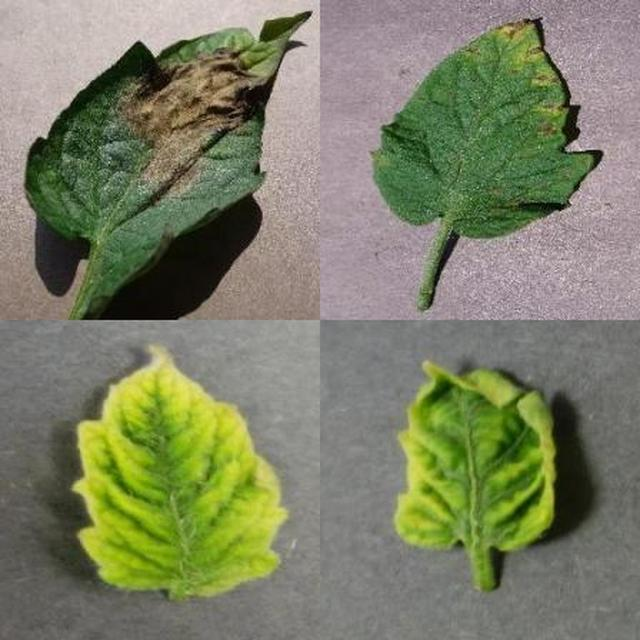Late Blight Leaf: (236, 188, 640, 640)
